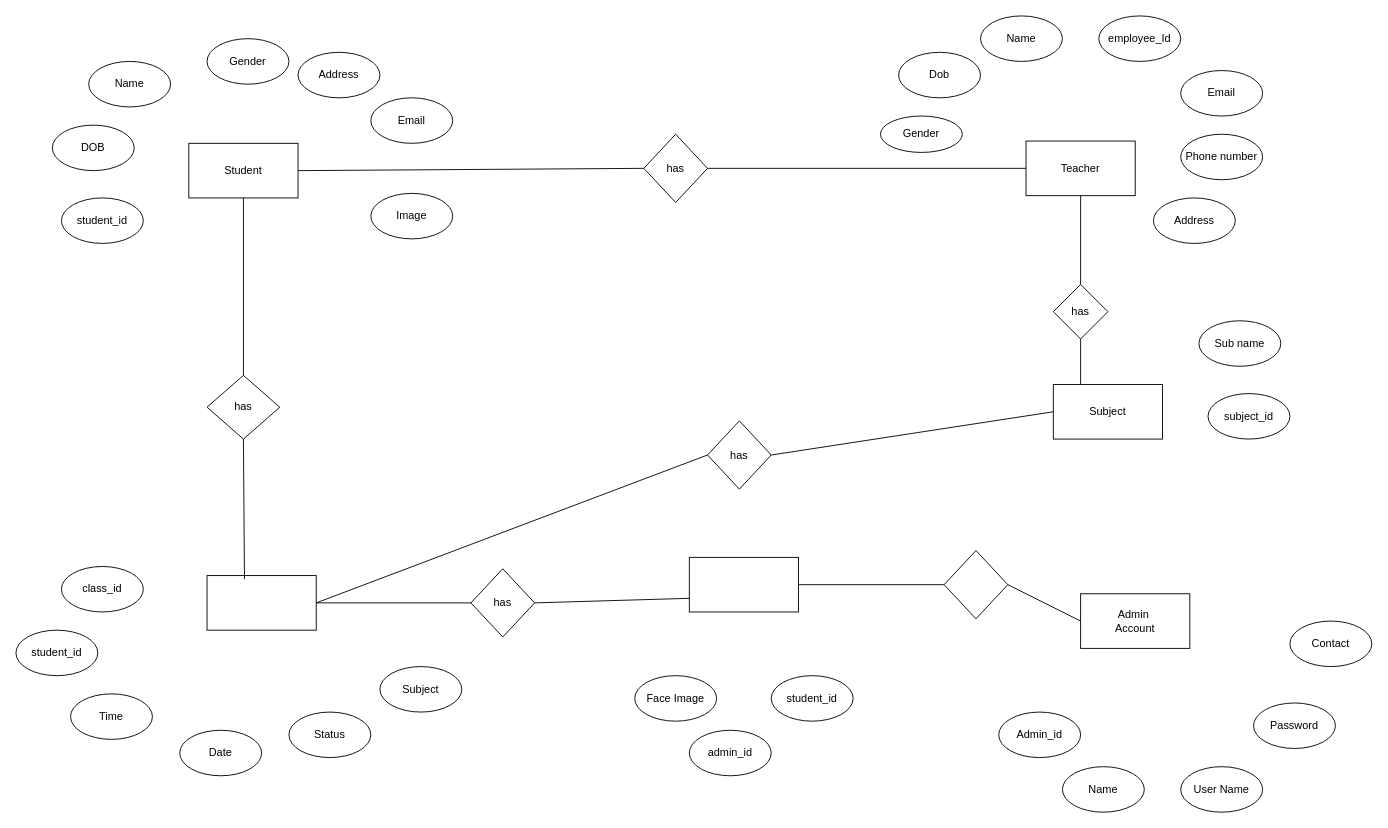
This 1388x828 diagram has some shape labels left out. Here are the shapes that lost their labels. From the top down, the box of each, then its label:
(206, 575, 316, 630): Attendance
(688, 556, 799, 612): Face Recognition System
(943, 550, 1008, 619): process
